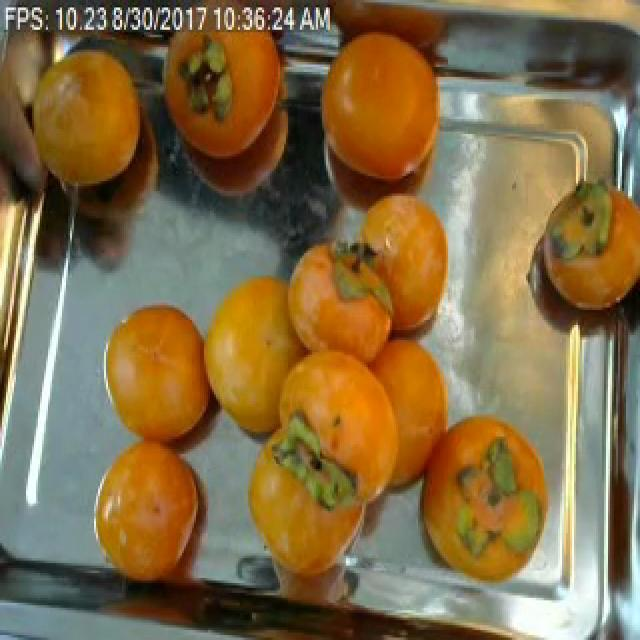Fruit: (148, 0, 304, 223), (398, 392, 554, 603), (18, 25, 152, 208), (84, 429, 228, 598), (94, 290, 230, 462)
